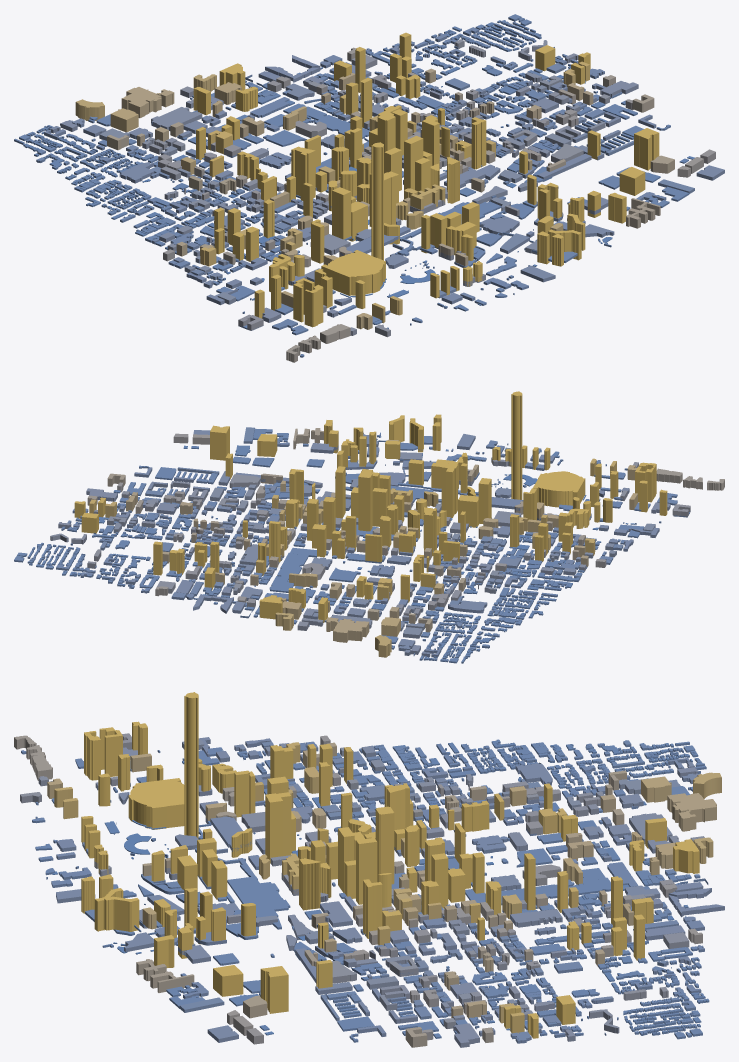
The model's file is buildings.glb.
The picture shows the model from 3 angles, top to bottom: view 1: azimuth 30°, elevation 25°; view 2: azimuth 150°, elevation 25°; view 3: azimuth 270°, elevation 25°; orthographic projection. The views are drawn at different scales.
Parts seen in each view (by area): view 1: buildings; view 2: buildings; view 3: buildings.
Part boxes in pixels (left/top/right/bottom): buildings: left=14, top=14, right=724, bottom=362; buildings: left=14, top=391, right=724, bottom=663; buildings: left=14, top=692, right=724, bottom=1047.
Bounding box in the file's own units: 2601 × 578 × 2533.
